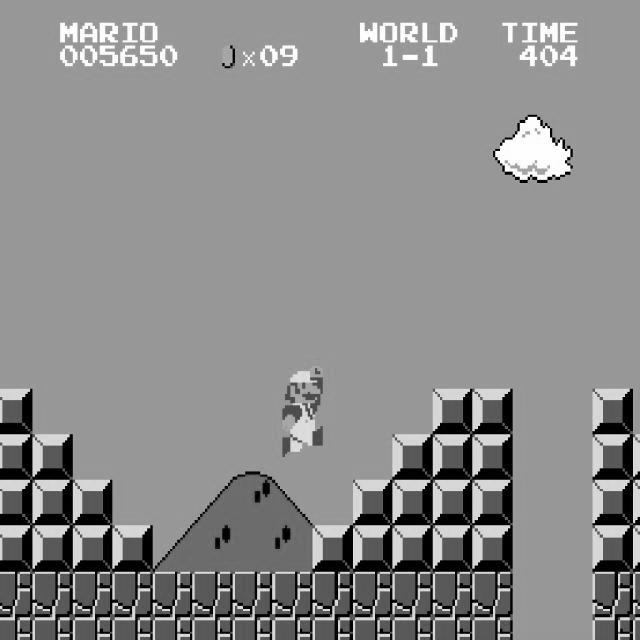17- undestructible_block: (32, 572, 73, 618), (72, 572, 113, 618), (112, 572, 153, 618), (152, 572, 193, 618), (192, 572, 233, 618), (232, 572, 273, 618), (272, 572, 313, 618), (312, 572, 353, 618), (352, 572, 393, 618), (392, 572, 433, 618), (432, 572, 473, 618), (472, 572, 513, 618), (592, 572, 633, 618), (0, 571, 32, 617), (32, 617, 73, 640), (72, 617, 113, 640), (112, 617, 153, 640), (152, 617, 193, 640), (192, 617, 233, 640), (232, 617, 273, 640), (272, 617, 313, 640), (312, 617, 353, 640), (352, 617, 393, 640), (392, 617, 433, 640), (432, 617, 473, 640), (472, 617, 513, 640), (592, 617, 633, 640), (0, 617, 32, 639), (633, 572, 640, 618), (633, 617, 640, 640)
4- fire_mario: (280, 363, 323, 457)
9- hard_block: (32, 434, 73, 480), (32, 480, 73, 526), (32, 526, 73, 572), (72, 480, 113, 526), (72, 526, 113, 572), (112, 526, 153, 572), (312, 526, 353, 572), (352, 480, 393, 526), (352, 526, 393, 572), (392, 434, 433, 480), (392, 480, 433, 526), (392, 526, 433, 572), (432, 388, 473, 434), (432, 434, 473, 480), (432, 480, 473, 526), (432, 526, 473, 572), (472, 388, 513, 434), (472, 434, 513, 480), (472, 480, 513, 526), (472, 526, 513, 572), (592, 388, 633, 434), (592, 434, 633, 480), (592, 480, 633, 526), (592, 526, 633, 572), (0, 388, 32, 434), (0, 525, 32, 571), (0, 434, 32, 479), (0, 480, 32, 525), (633, 434, 640, 480), (633, 480, 640, 526), (633, 526, 640, 572)
